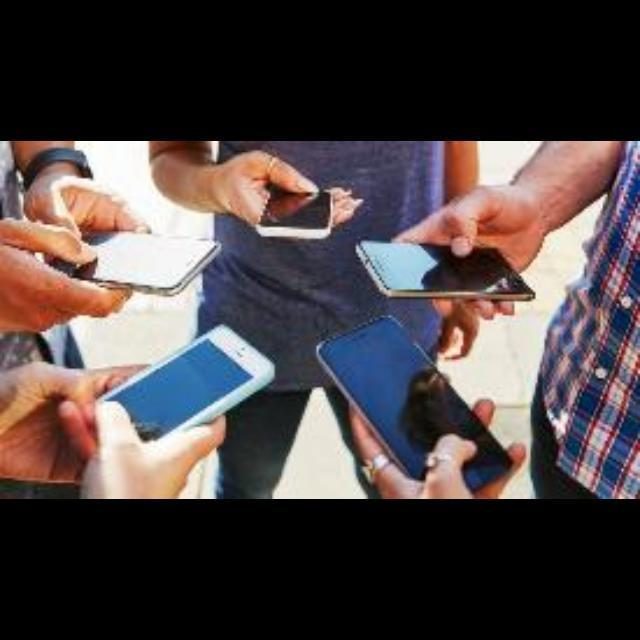PhoneUse: (314, 314, 514, 493), (78, 318, 286, 452), (34, 226, 222, 294), (356, 238, 538, 304), (252, 177, 340, 249)
